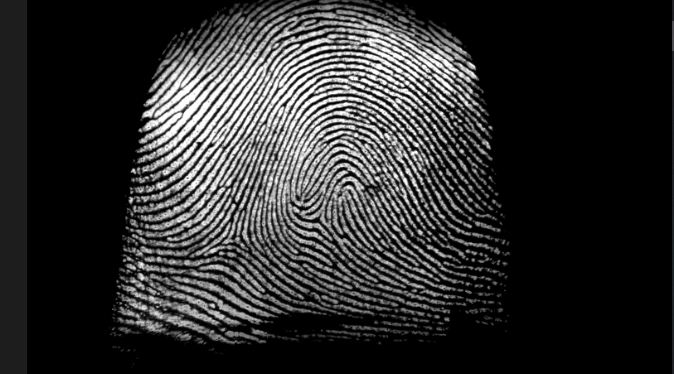deltas: (200, 212, 262, 261)
nucleo: (308, 163, 376, 221)
